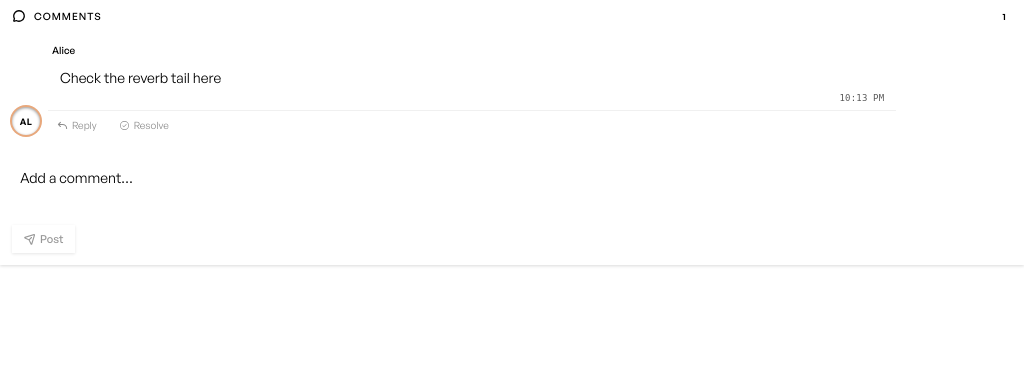
CommentsPanel — reply composer › opens reply composer when Reply is clicked
The image size is (1024, 391).
Click the button "Reply" at (77, 126), box [48, 116, 106, 135]
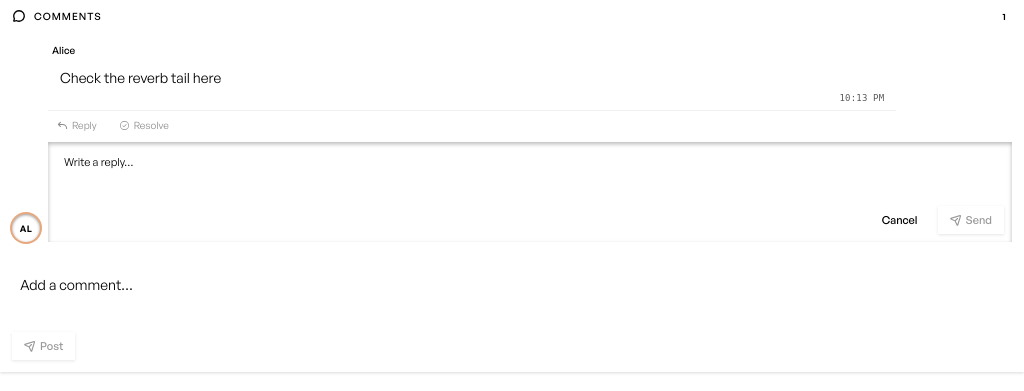
Now the text box labelled "Write a reply…" is shown, box [56, 150, 1004, 198]
